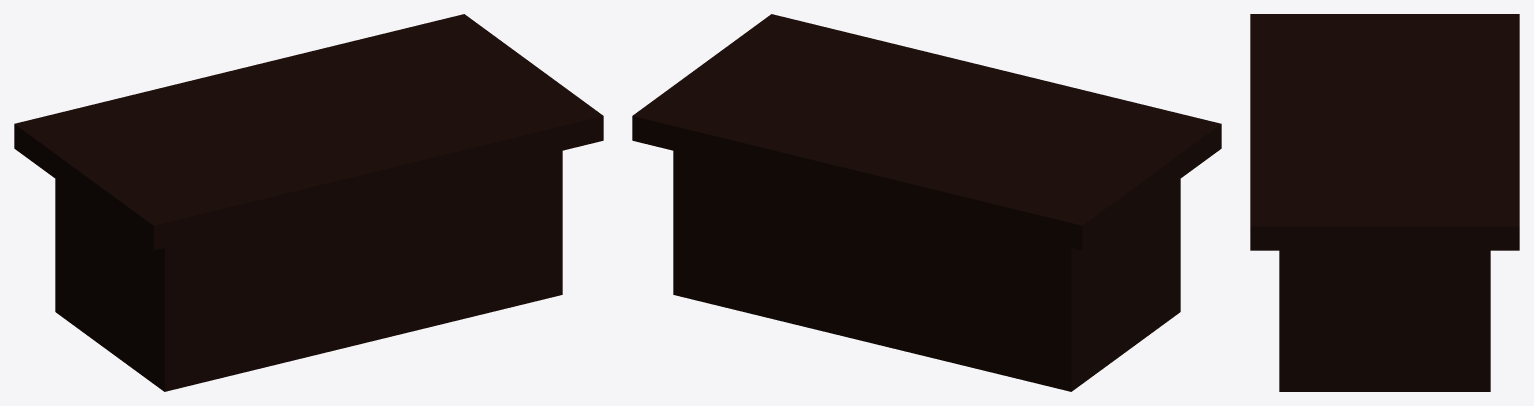
Rendered from Table2.fbx.
The picture shows the model from 3 angles, left to right: view 1: azimuth 30°, elevation 25°; view 2: azimuth 150°, elevation 25°; view 3: azimuth 270°, elevation 25°; orthographic projection. The views are drawn at different scales.
Parts seen in each view (by area): view 1: Mesh; view 2: Mesh; view 3: Mesh.
Part boxes in pixels (x1=…): Mesh: x1=14, y1=14, x2=603, y2=391; Mesh: x1=632, y1=14, x2=1221, y2=391; Mesh: x1=1250, y1=14, x2=1519, y2=391.
Bounding box in the file's own units: 114 × 44.5 × 61.2.
